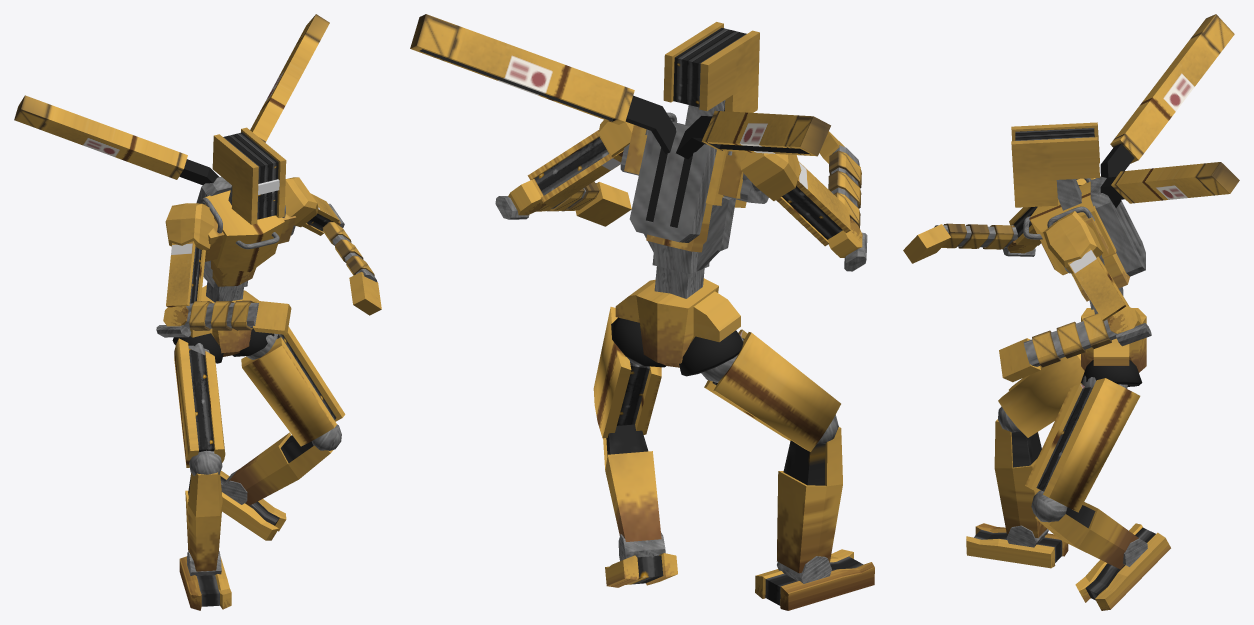
File: Robot 6 pose.fbx
3 views of the same model, side by side, from view 1: azimuth 30°, elevation 25°; view 2: azimuth 150°, elevation 25°; view 3: azimuth 270°, elevation 25° (orthographic). The views are drawn at different scales.
Parts seen in each view (by area): view 1: Icosphere.009, Cube.006, Cube.005, Cube.001, Icosphere, Icosphere.004, Icosphere.002, Icosphere.003, Cylinder, Cube.010, Cylinder.003, Cube.026 (+6 smaller); view 2: Cube.005, Cube.010, Cube.026, Icosphere, Icosphere.003, Cube.001, Cube.006, Icosphere.004, Icosphere.002, Icosphere.009, Cylinder.002, Icosphere.005 (+5 smaller); view 3: Icosphere.009, Cube.006, Cube.001, Cube.005, Cube.010, Icosphere.003, Icosphere.005, Icosphere.002, Cylinder.004, Icosphere, Cylinder.003, Cylinder.002 (+6 smaller).
Part boxes in pixels (x1,y1,x2,y2): Icosphere.009: (241,327,345,446); Cube.006: (14,95,219,185); Cube.005: (196,176,296,286); Cube.001: (212,127,286,224); Icosphere: (174,338,225,467); Icosphere.004: (165,203,214,307); Icosphere.002: (228,424,341,505); Icosphere.003: (185,450,222,571); Cylinder: (156,300,258,337); Cube.010: (250,14,329,142); Cylinder.003: (220,469,286,540); Cube.026: (172,285,274,363); Cube.005: (620,112,768,252); Cube.010: (410,14,676,154); Cube.026: (611,278,743,376); Icosphere: (701,329,840,451); Icosphere.003: (777,415,842,573); Cube.001: (663,22,759,112); Cube.006: (676,110,830,159); Icosphere.004: (740,152,850,246); Icosphere.002: (603,424,661,541); Icosphere.009: (593,307,661,438); Cylinder.002: (755,549,874,610); Icosphere.005: (527,120,634,207); Icosphere.009: (1025,375,1140,512); Cube.006: (1100,14,1234,177); Cube.001: (1011,122,1099,207); Cube.005: (1023,176,1145,301); Cube.010: (1100,162,1239,207); Icosphere.003: (994,406,1046,537); Icosphere.005: (1043,211,1129,320); Icosphere.002: (1031,490,1138,569); Cylinder.004: (1023,305,1151,367); Icosphere: (998,354,1084,437); Cylinder.003: (1075,523,1170,610); Cylinder.002: (966,523,1068,568).
Size of the model in its own units: 891 by 1255 by 763.
